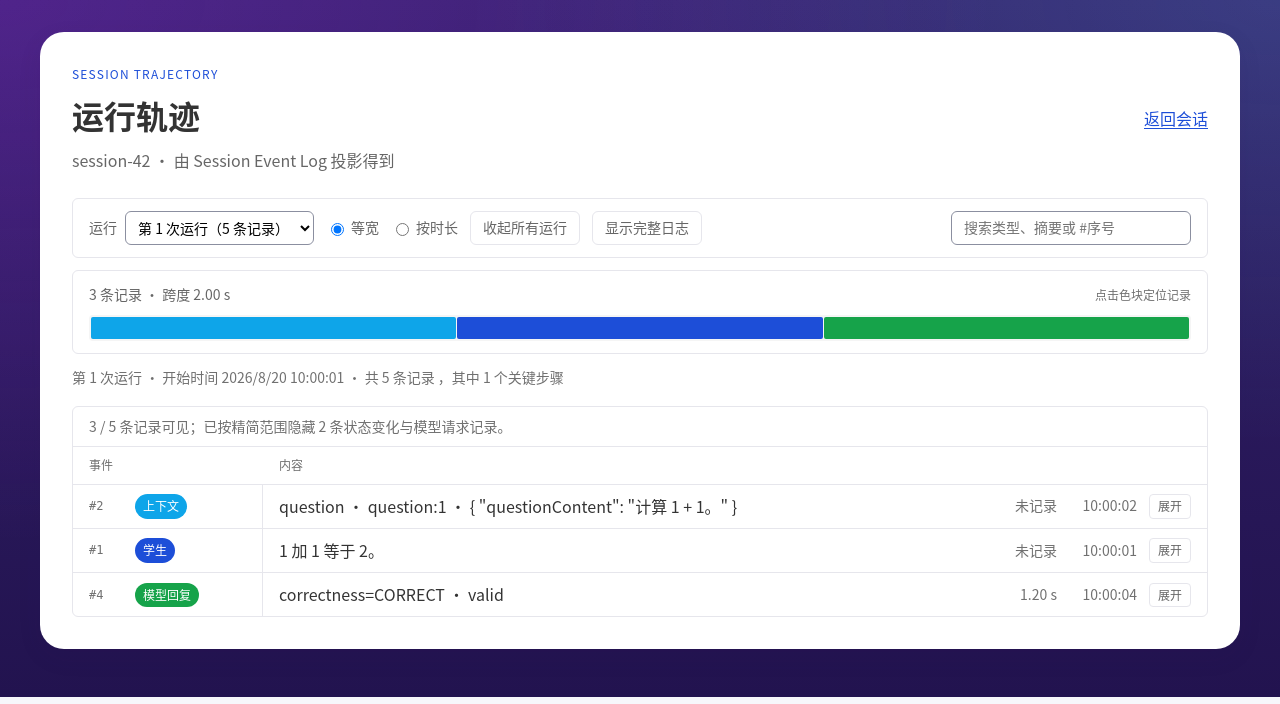
Test case: SessionEventLogView › detail 未使用的键是显式 null 时轨迹页仍能渲染，展开按钮继续生效
Expected: the number of elements with class "record-row" is 3, [73, 485, 1207, 528]; [73, 528, 1207, 572]; [73, 572, 1207, 616]
Click the button with class "toolbar-button" showing "显示完整日志" at (647, 228), box [592, 211, 702, 245]
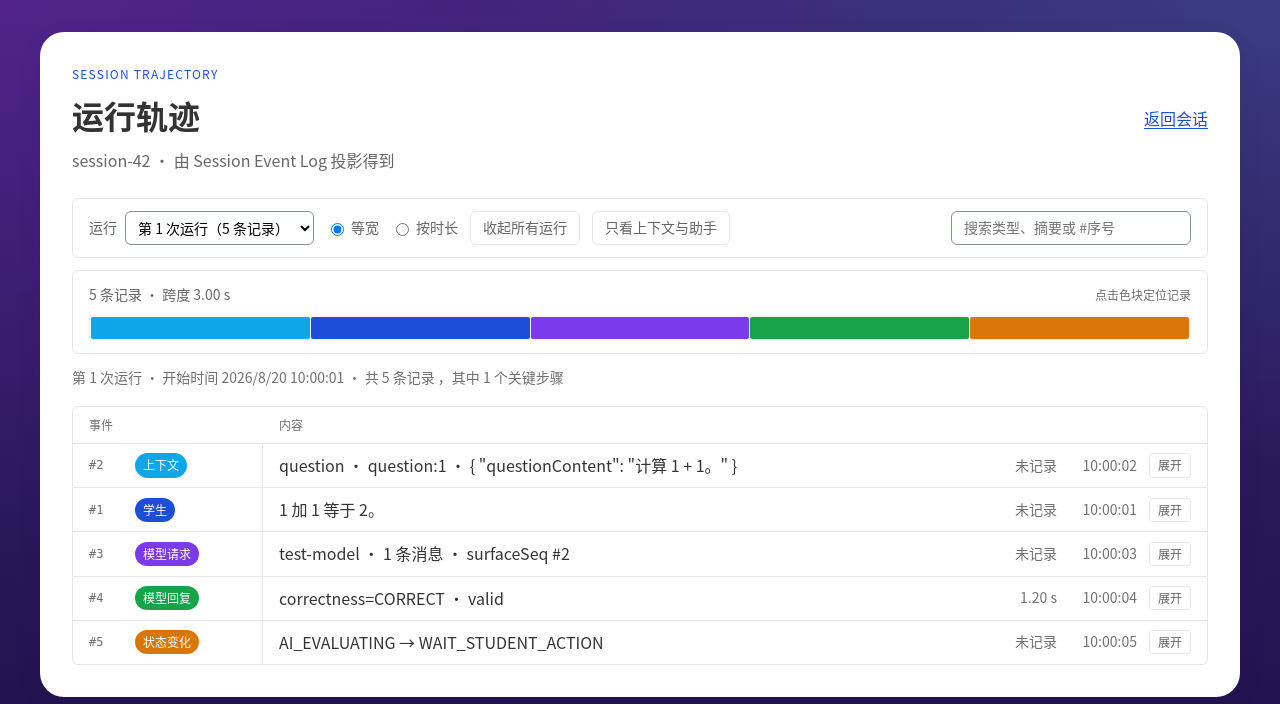
Expected: the number of elements with class "record-row" is 5, [73, 444, 1207, 487]; [73, 487, 1207, 531]; [73, 531, 1207, 576]; [73, 576, 1207, 620]; [73, 620, 1207, 664]
Click the button with class "expand-button" in the row of "1 加 1 等于 2。" at (1170, 510), box [1149, 498, 1191, 522]
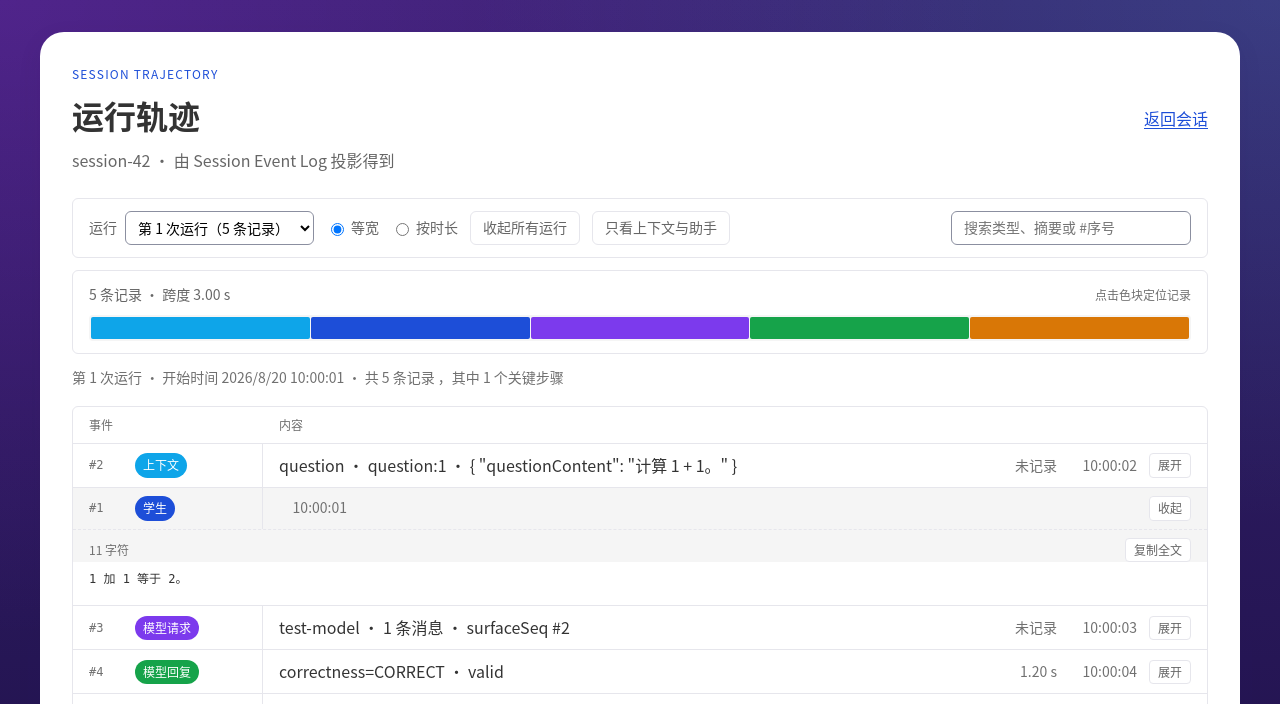
Expected: the number of elements with class "record-full" is 1, [73, 562, 1207, 605]
